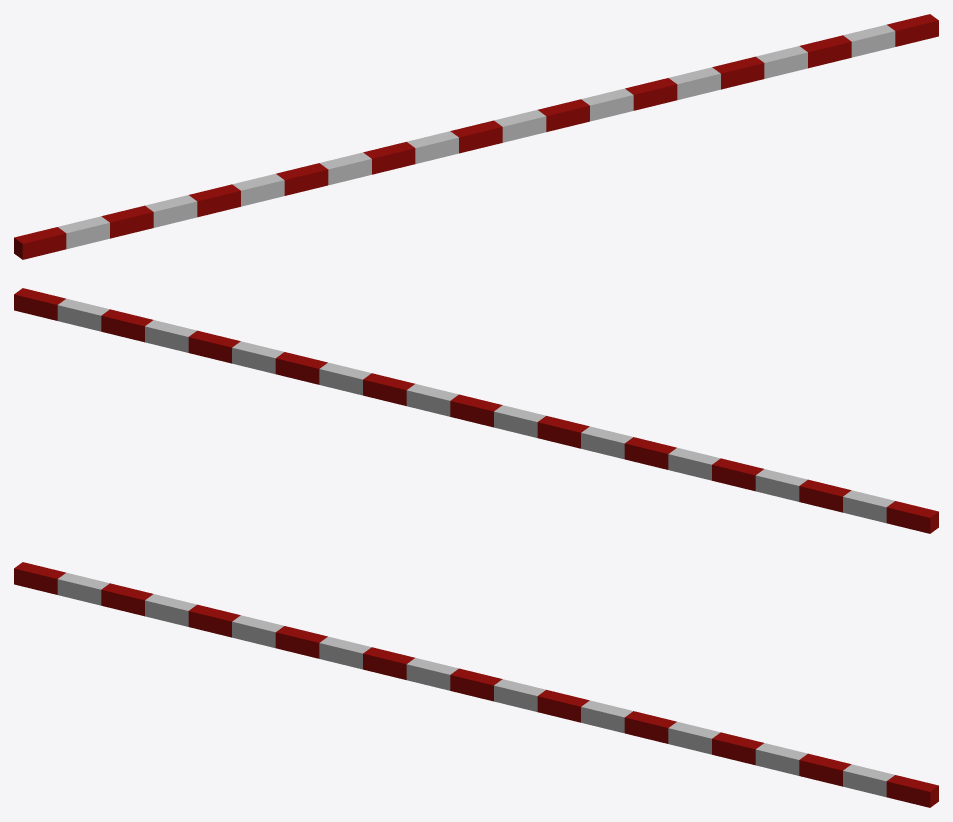
The model's file is StartStrip.FBX.
The picture shows the model from 3 angles, top to bottom: view 1: azimuth 30°, elevation 25°; view 2: azimuth 150°, elevation 25°; view 3: azimuth 330°, elevation 25°; orthographic projection.
Visible parts, largest first — view 1: Box001; view 2: Box001; view 3: Box001.
Part boxes in pixels (x1,y1,x2,y2): Box001: (14, 14, 938, 259); Box001: (14, 288, 938, 533); Box001: (14, 562, 938, 807).
Bounding box in the file's own units: 1200 × 20 × 20.
